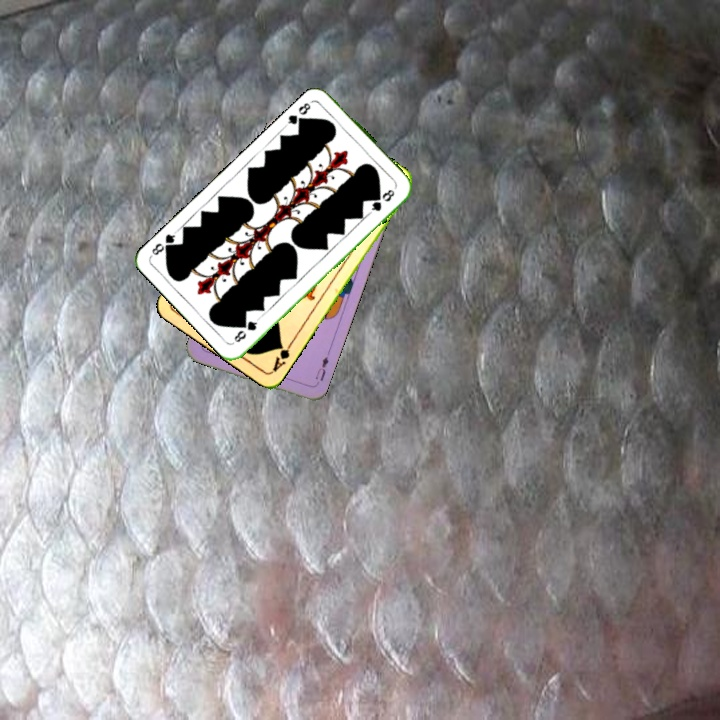EU: (310, 352, 331, 388)
G8: (284, 96, 316, 130), (230, 314, 262, 345)
GA: (268, 337, 295, 375)
